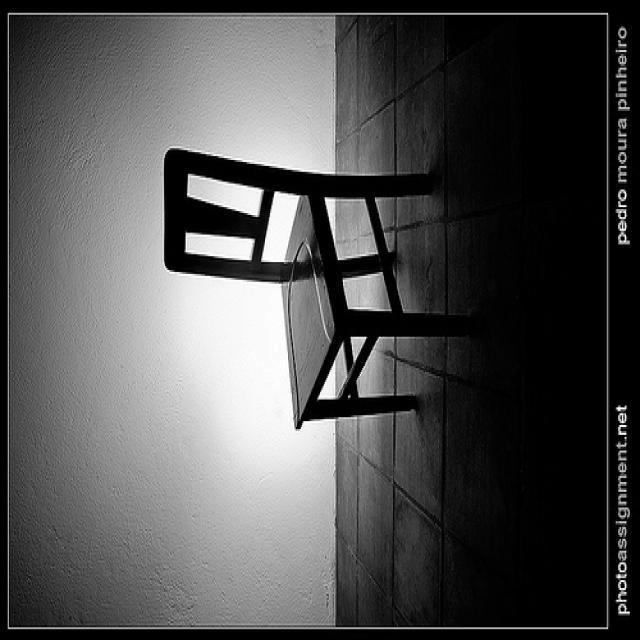chair: (163, 143, 475, 430)
